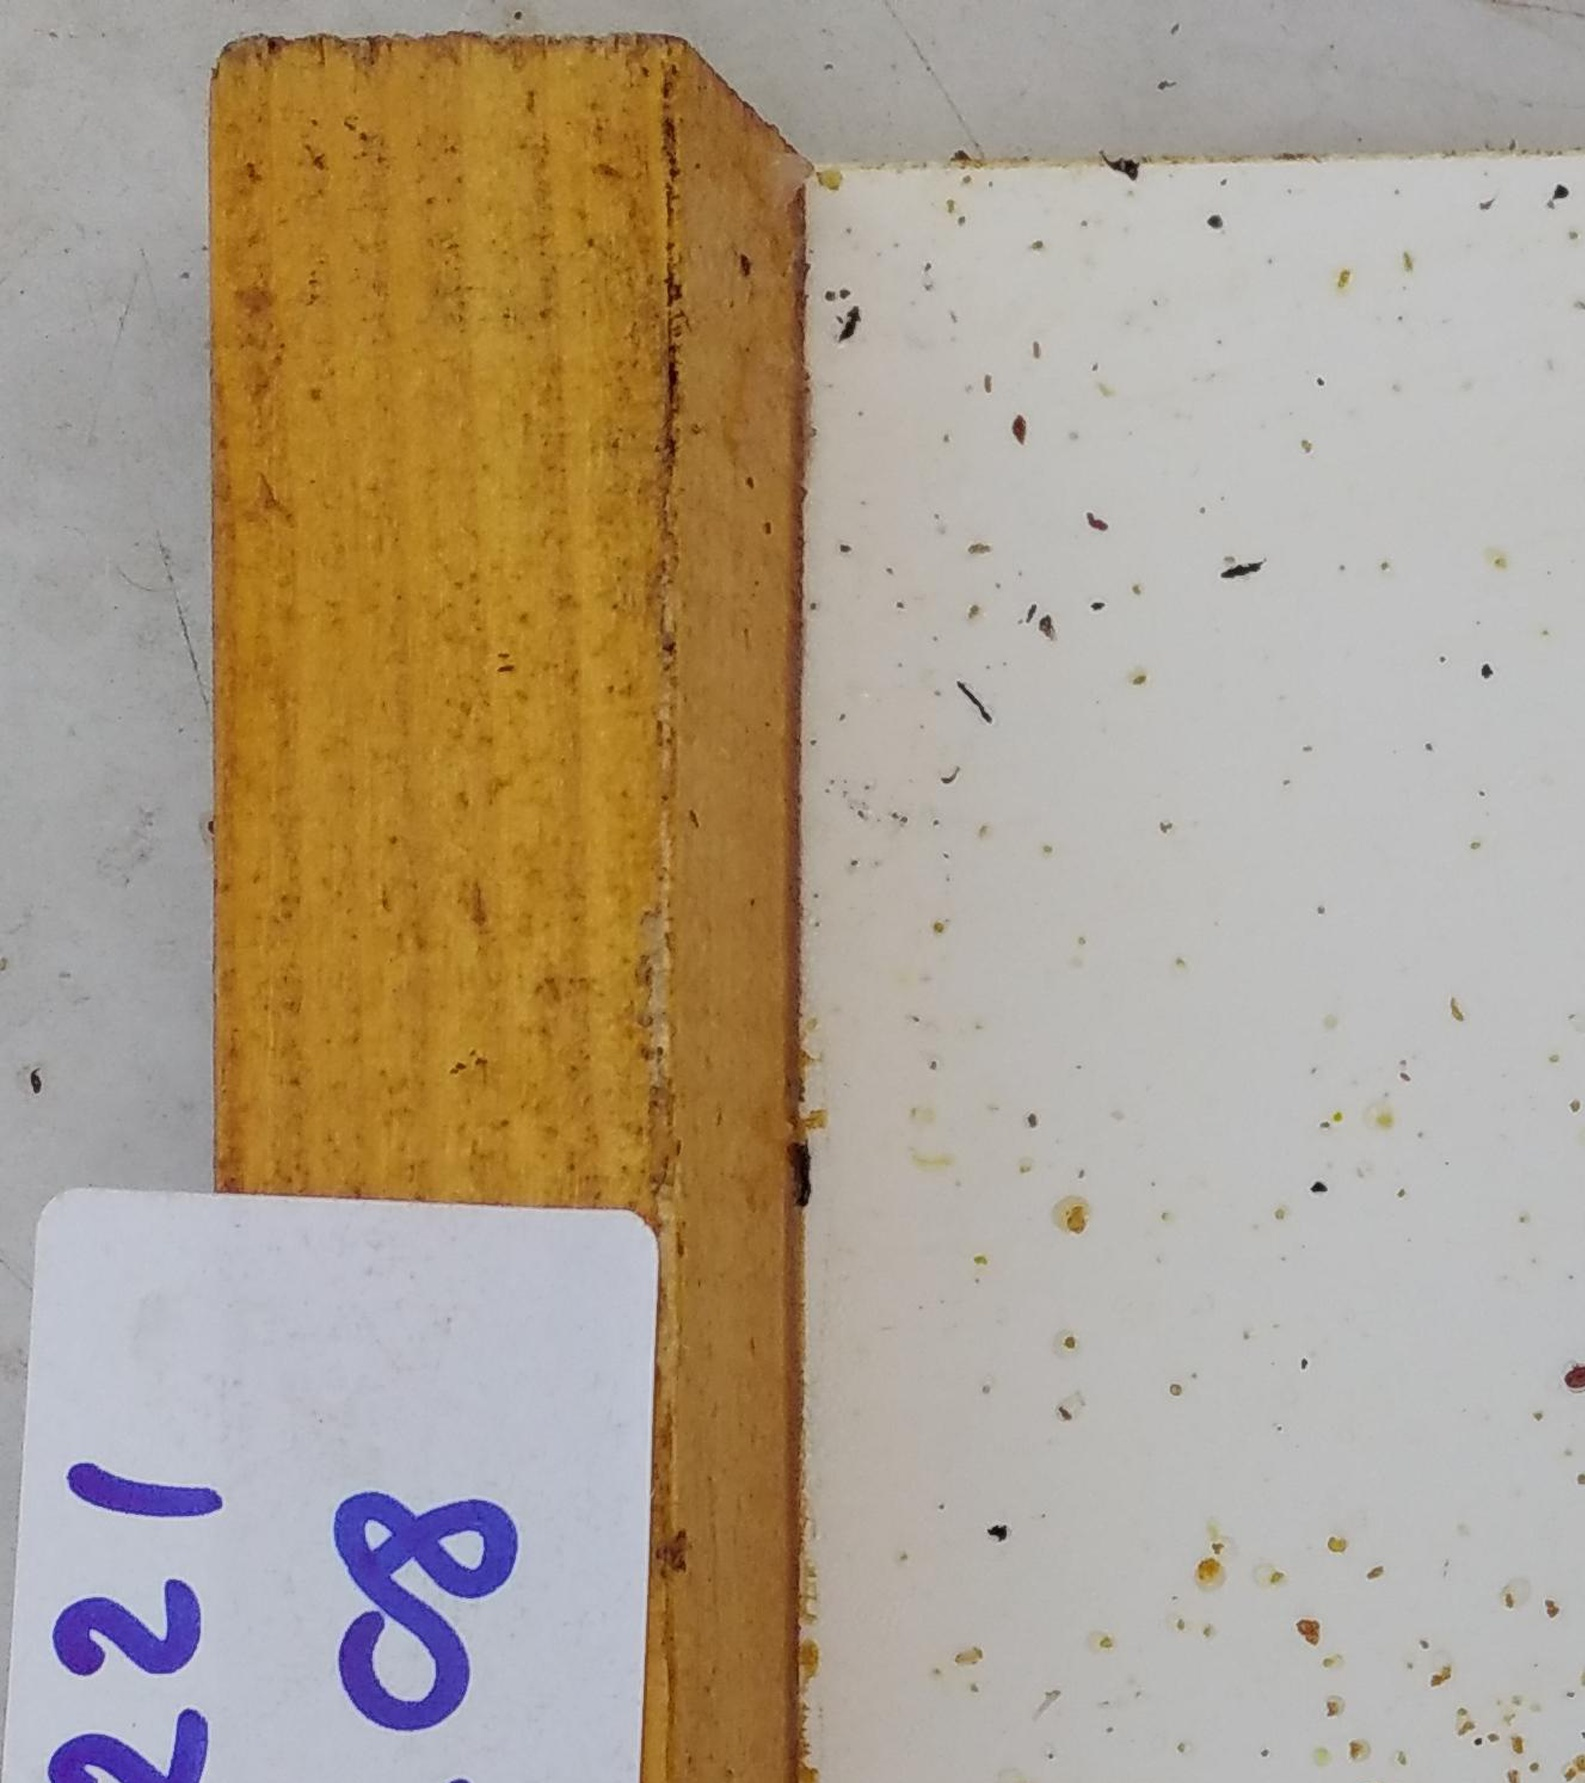Varroa: (1557, 1361, 1583, 1387)
